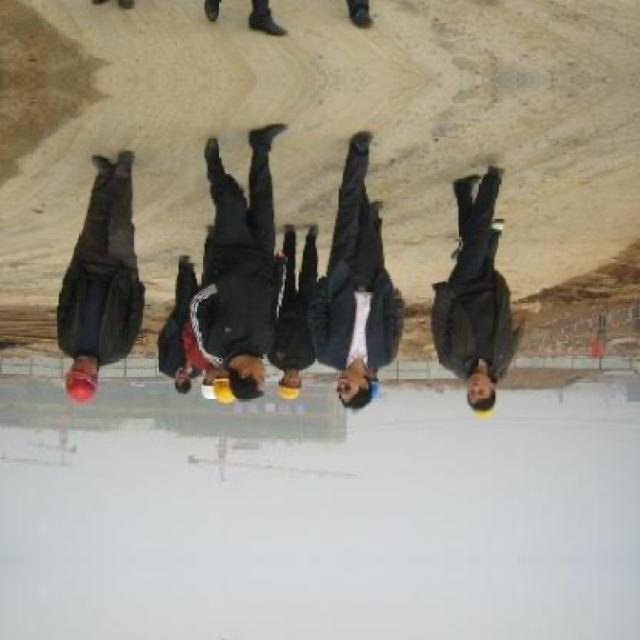con casco: (34, 358, 110, 416), (217, 376, 272, 407), (269, 357, 297, 412)
sin casco: (224, 351, 297, 401), (337, 352, 399, 405), (453, 366, 493, 412)
